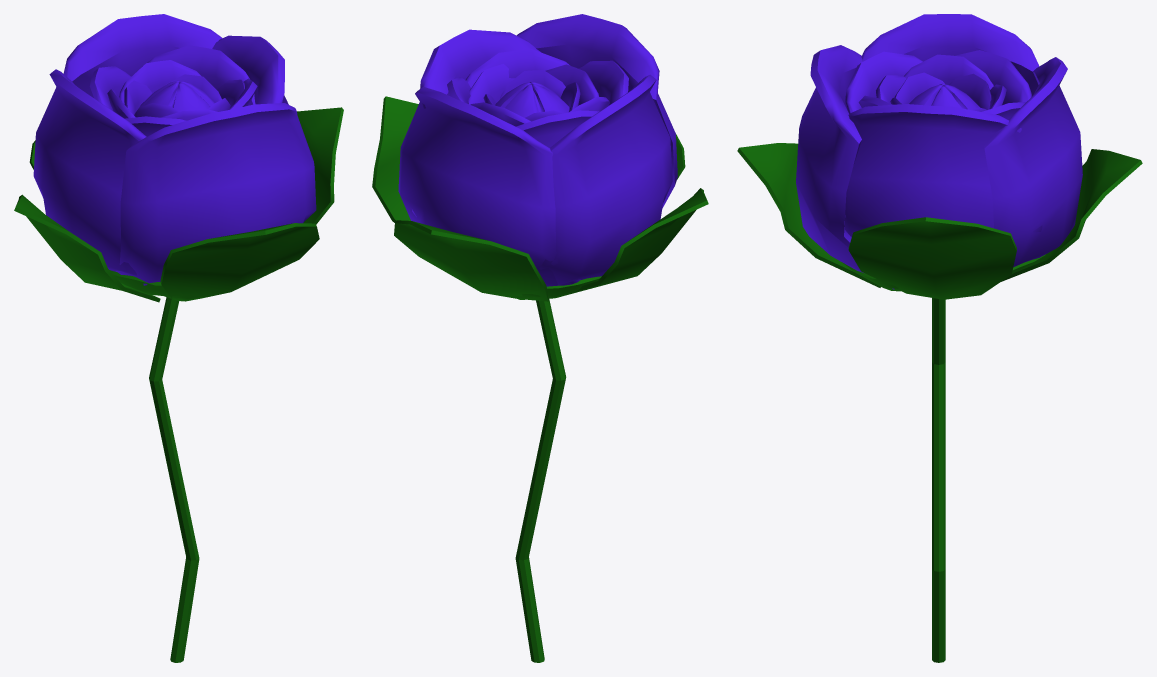
Rendered from Rose.fbx.
3 views of the same model, side by side, from view 1: azimuth 30°, elevation 25°; view 2: azimuth 150°, elevation 25°; view 3: azimuth 270°, elevation 25° (orthographic).
Parts seen in each view (by area): view 1: Rose; view 2: Rose; view 3: Rose.
Part boxes in pixels (x1,y1,x2,y2): Rose: (14,14,343,662); Rose: (372,14,708,662); Rose: (737,14,1142,662).
Size of the model in its own units: 1.11 by 1.93 by 1.18.
